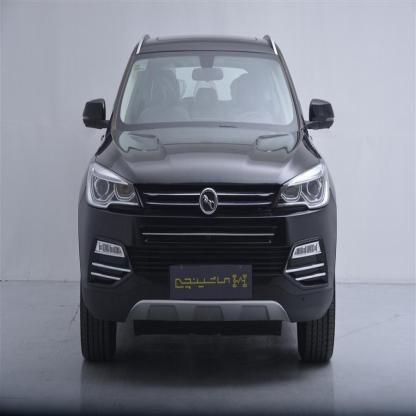Car: (76, 37, 342, 378)
